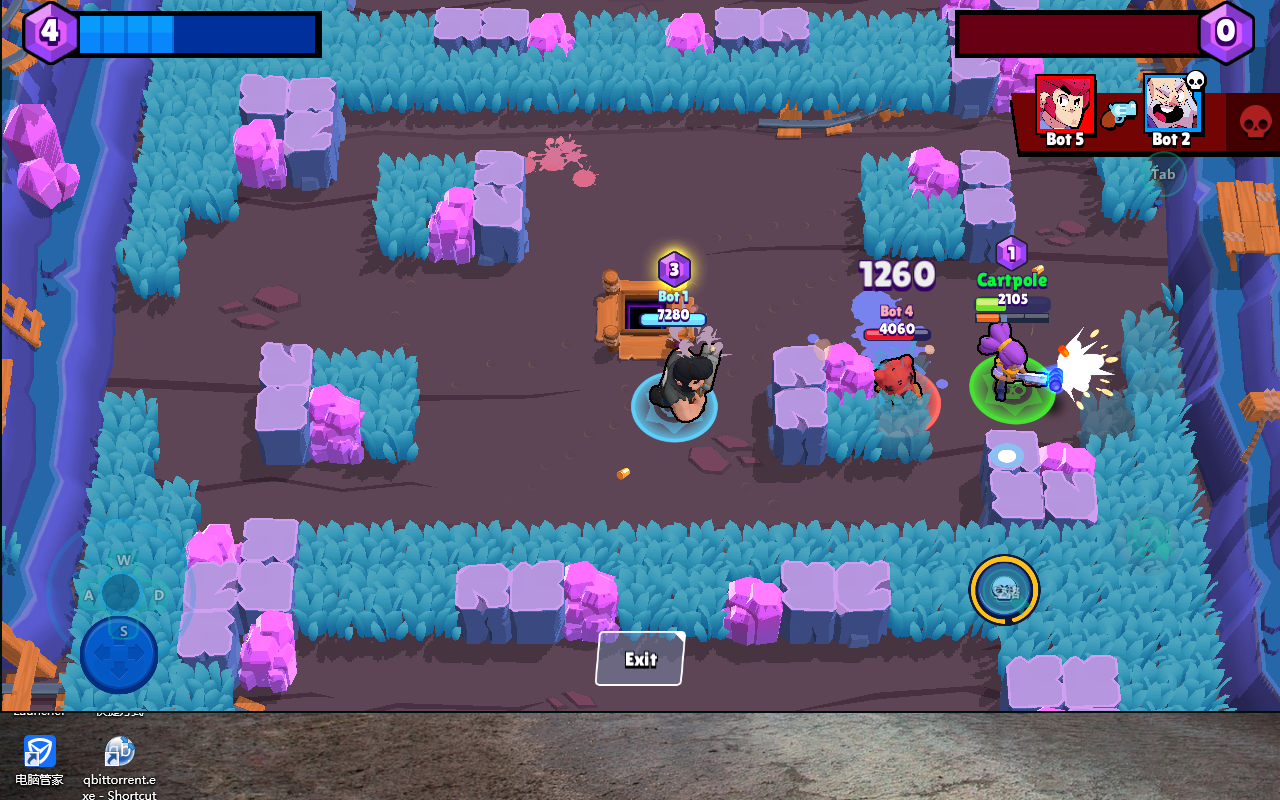current_player: (968, 351, 1056, 425)
